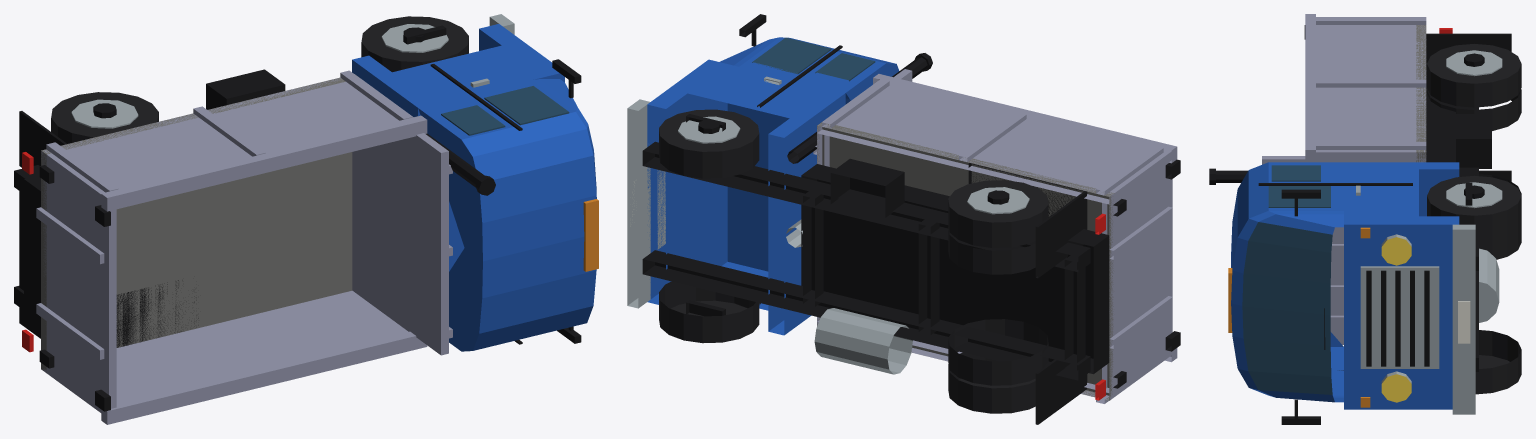
File: empty.glb
3 views of the same model, side by side, from view 1: azimuth 30°, elevation 25°; view 2: azimuth 150°, elevation 25°; view 3: azimuth 270°, elevation 25° (orthographic). The views are drawn at different scales.
Parts seen in each view (by area): view 1: empty_bed, empty_cab_upper, empty_headboard, empty_cab_arch, empty_front1, empty_rear_out1, empty_subframe, empty_cab_back, empty_rear_guard-1, empty_battery_box, empty_side_window1, empty_cab_front (+4 smaller); view 2: empty_bed, empty_subframe, empty_cab_arch, empty_chassis-1, empty_chassis1, empty_cab_back, empty_cab_front, empty_front1, empty_rear_out1, empty_fuel_tank, empty_bumper, empty_front-1 (+15 smaller); view 3: empty_cab_upper, empty_bed, empty_cab_front, empty_grille, empty_rear_out1, empty_front1, empty_bumper, empty_cab_arch, empty_front-1, empty_battery_box, empty_subframe, empty_cab_back (+21 smaller).
Boxes of the visible parts, x1,y1,x2,y2 form: empty_bed: (36, 70, 427, 424); empty_cab_upper: (418, 79, 596, 351); empty_headboard: (414, 133, 448, 355); empty_cab_arch: (392, 45, 544, 271); empty_front1: (361, 16, 468, 72); empty_rear_out1: (51, 92, 158, 143); empty_subframe: (24, 175, 40, 327); empty_cab_back: (352, 55, 434, 116); empty_rear_guard-1: (116, 280, 198, 347); empty_battery_box: (206, 69, 285, 109); empty_side_window1: (484, 86, 569, 125); empty_cab_front: (479, 24, 564, 82); empty_bed: (817, 74, 1177, 403); empty_subframe: (801, 164, 1109, 374); empty_cab_arch: (687, 64, 829, 310); empty_chassis-1: (642, 250, 1090, 380); empty_chassis1: (642, 141, 1090, 271); empty_cab_back: (768, 89, 845, 335); empty_cab_front: (647, 59, 727, 304); empty_front1: (659, 109, 759, 178); empty_rear_out1: (948, 180, 1048, 247); empty_fuel_tank: (814, 308, 912, 374); empty_bumper: (627, 99, 650, 308); empty_front-1: (659, 281, 759, 343); empty_cab_upper: (1231, 162, 1343, 402); empty_bed: (1305, 14, 1426, 344); empty_cab_front: (1344, 216, 1459, 409); empty_grille: (1360, 266, 1439, 368); empty_rear_out1: (1427, 44, 1521, 107); empty_front1: (1427, 175, 1521, 240); empty_bumper: (1452, 224, 1475, 414); empty_cab_arch: (1344, 169, 1418, 216); empty_front-1: (1475, 330, 1521, 394); empty_battery_box: (1456, 114, 1491, 168); empty_subframe: (1426, 67, 1455, 162); empty_cab_back: (1344, 162, 1459, 216).
Bounding box in the file's own units: 7.6 × 3.9 × 4.75.
